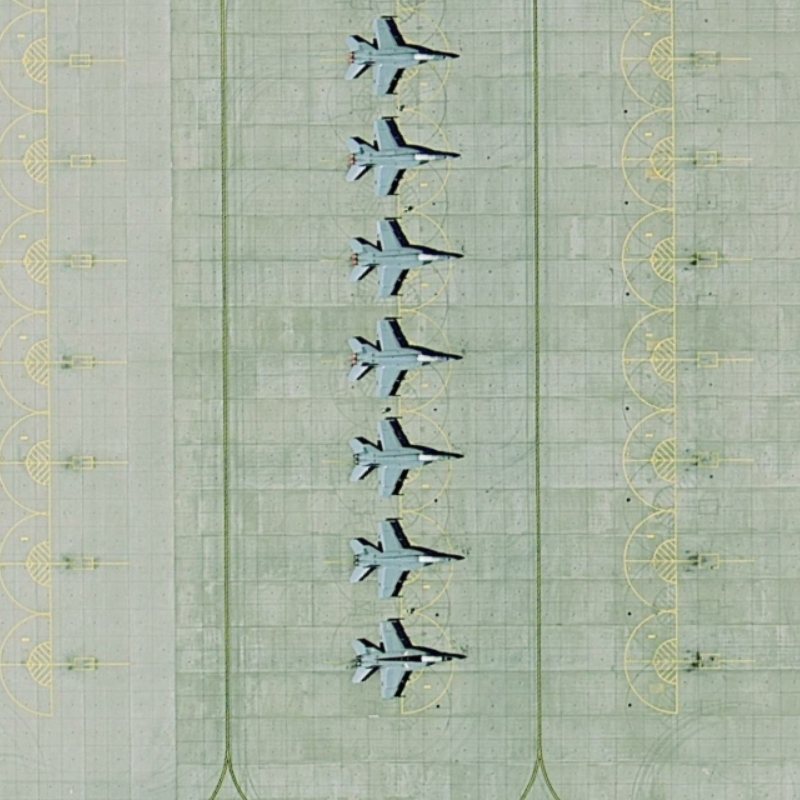A16: (342, 312, 468, 405), (337, 10, 466, 100), (347, 611, 470, 705), (342, 512, 471, 600), (337, 111, 460, 203), (341, 411, 468, 500), (346, 209, 468, 301)
